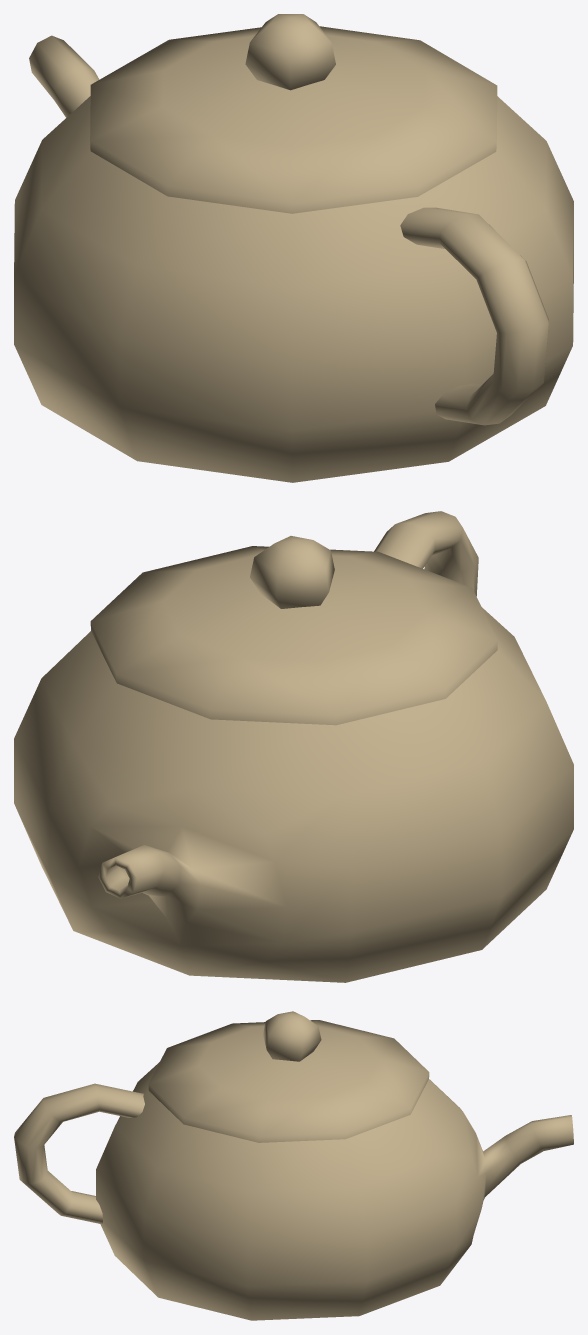
Rendered from TeaPot.glb.
3 views of the same model, one above another, from view 1: azimuth 30°, elevation 25°; view 2: azimuth 150°, elevation 25°; view 3: azimuth 270°, elevation 25° (orthographic). The views are drawn at different scales.
Parts seen in each view (by area): view 1: TeaPot; view 2: TeaPot; view 3: TeaPot.
Part boxes in pixels (x1,y1,x2,y2): TeaPot: [14, 14, 573, 482]; TeaPot: [14, 511, 573, 982]; TeaPot: [14, 1011, 573, 1320].
Bounding box in the file's own units: 0.2382 × 0.1614 × 0.3517.
